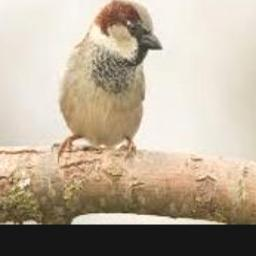Sparrow: (53, 0, 163, 164)
